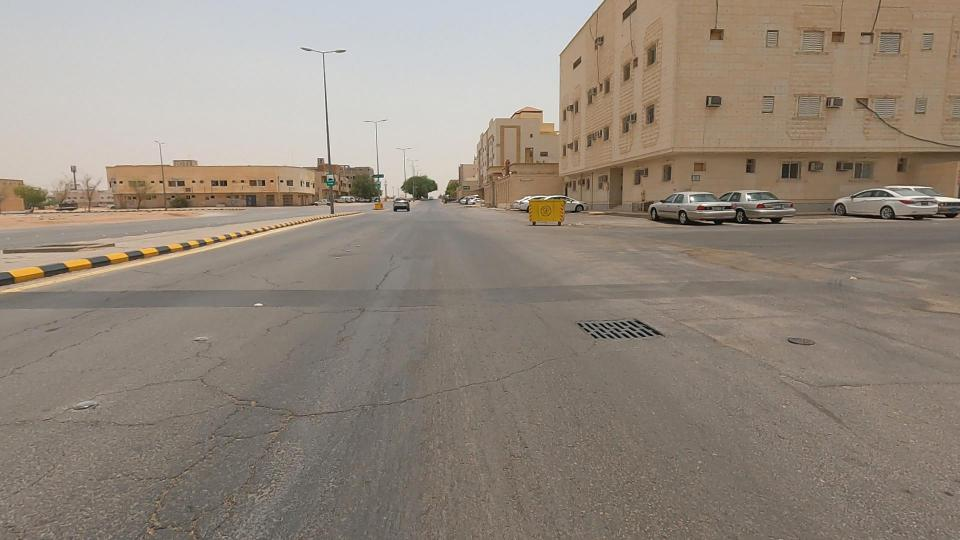POTHOLES: (624, 208, 812, 313)
